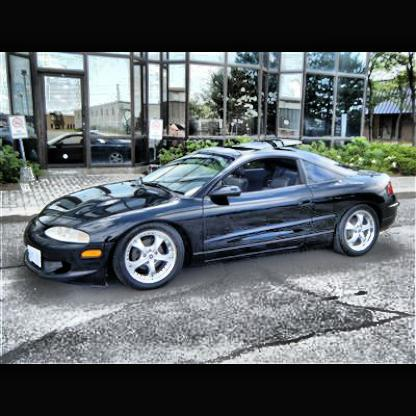Eagle Talon Hatchback 1998: (25, 148, 398, 296)
